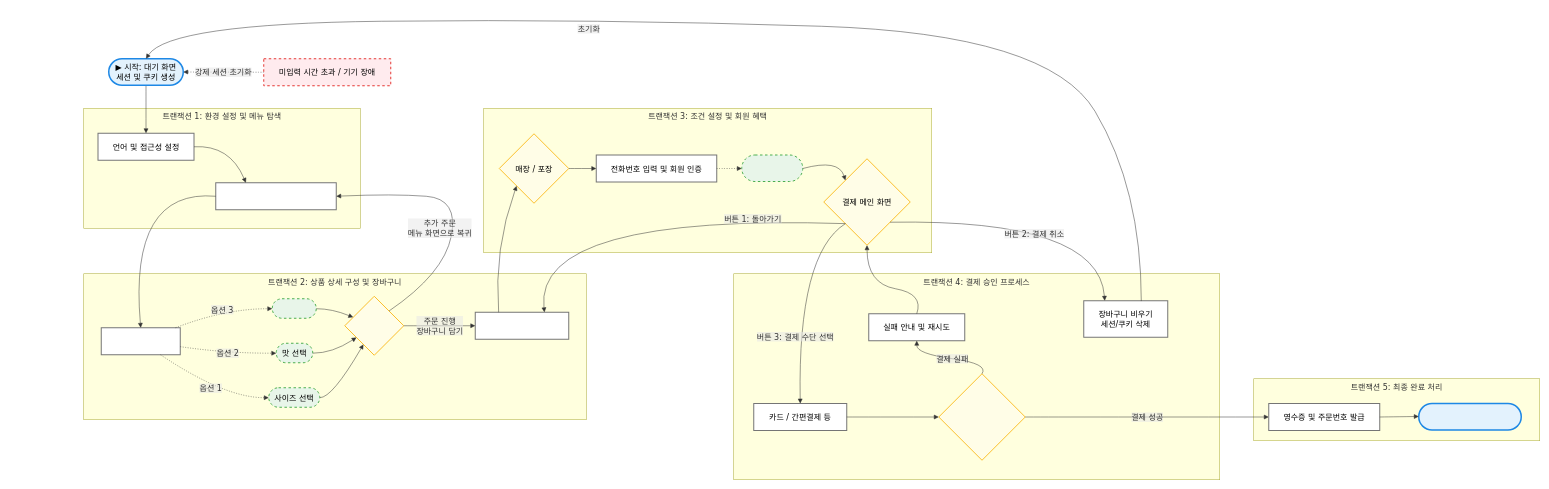
This 1549x489 diagram has some shape labels left out. The shapes that lost their labels are listed below. From the top down, each one's box as (x1, y1, x2, y2) in pixels, then its label:
(741, 154, 803, 182): 내 누적 포인트 확인 및 사용
(215, 182, 336, 210): 카테고리 및 메뉴 목록 화면
(272, 298, 316, 318): 토핑 추가
(344, 296, 404, 356): 메뉴 옵션 선택 완료
(474, 312, 569, 340): 장바구니 확인 화면
(100, 327, 180, 355): 메뉴 상세 진입
(938, 373, 1026, 460): 결제 승인 요청
(1418, 402, 1522, 430): ■ 종료: 픽업 안내 세션 만료 및 데이터 초기화
